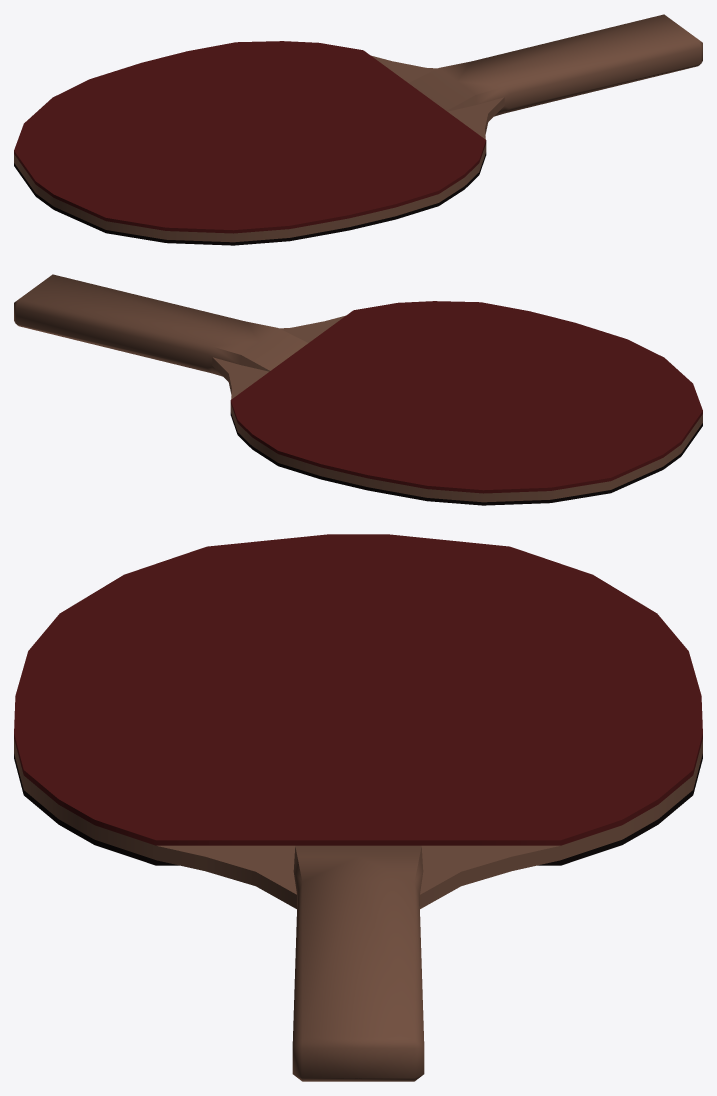
Rendered from Pala.FBX.
3 views of the same model, one above another, from view 1: azimuth 30°, elevation 25°; view 2: azimuth 150°, elevation 25°; view 3: azimuth 270°, elevation 25° (orthographic). The views are drawn at different scales.
Visible parts, largest first — view 1: Pala; view 2: Pala; view 3: Pala.
Boxes of the visible parts, x1=… form: Pala: x1=14, y1=14, x2=702, y2=245; Pala: x1=14, y1=274, x2=702, y2=505; Pala: x1=14, y1=534, x2=702, y2=1081.
Bounding box in the file's own units: 101 × 4.06 × 56.91.
